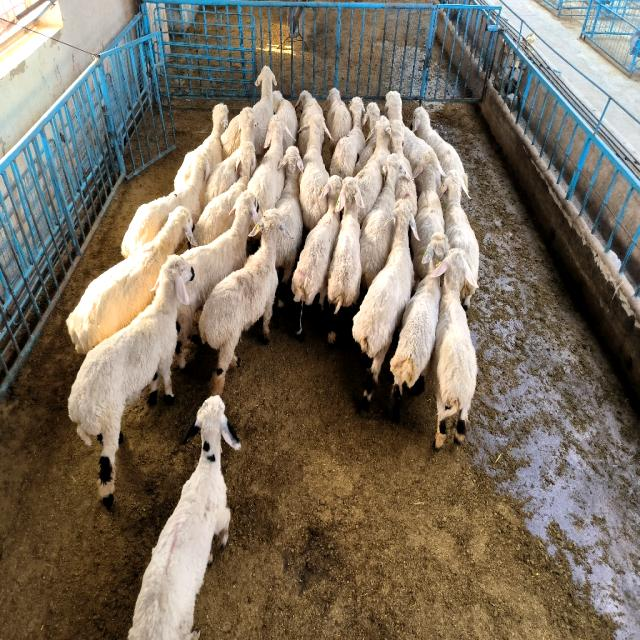sheep: (69, 255, 194, 507), (129, 395, 241, 638), (66, 207, 194, 353), (199, 208, 289, 394), (354, 198, 416, 408), (178, 192, 260, 344), (390, 232, 449, 418), (121, 152, 210, 258), (431, 248, 478, 448), (291, 175, 342, 340), (194, 140, 256, 245), (361, 153, 404, 288), (204, 108, 258, 204), (328, 177, 364, 318), (384, 92, 444, 176), (412, 107, 469, 194), (174, 103, 229, 189), (275, 147, 302, 313), (411, 152, 444, 286), (440, 170, 479, 279), (248, 113, 290, 212), (354, 117, 391, 226), (300, 113, 329, 230), (330, 97, 365, 178), (252, 67, 276, 155), (404, 128, 444, 176), (354, 102, 380, 174), (325, 88, 352, 154), (273, 92, 296, 152), (389, 120, 412, 174), (298, 90, 322, 128), (221, 115, 240, 159), (461, 285, 474, 309), (298, 130, 309, 156)
